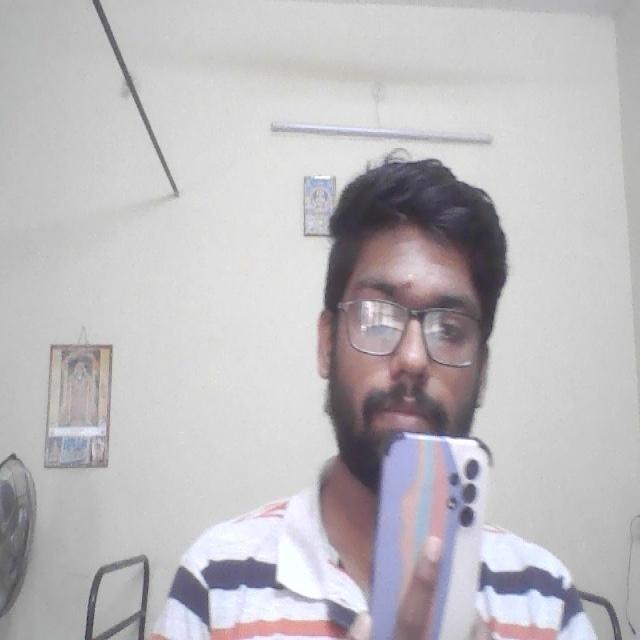Mobile: (362, 427, 496, 640)
